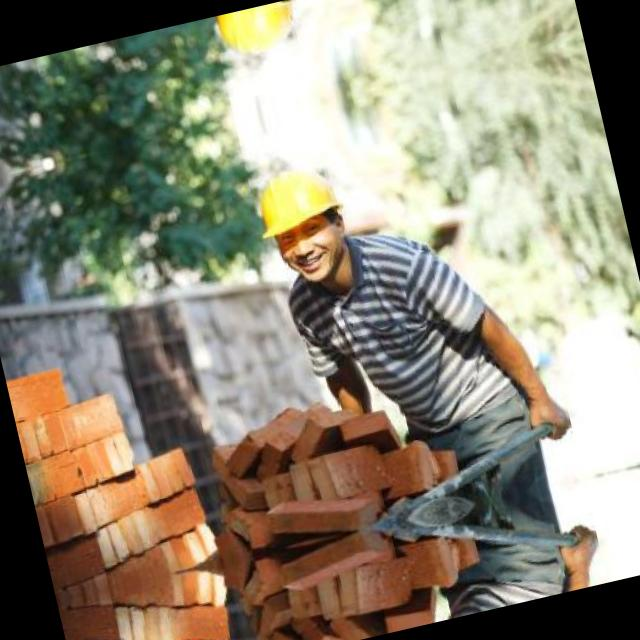helmet: (236, 146, 364, 294), (201, 0, 313, 77)
